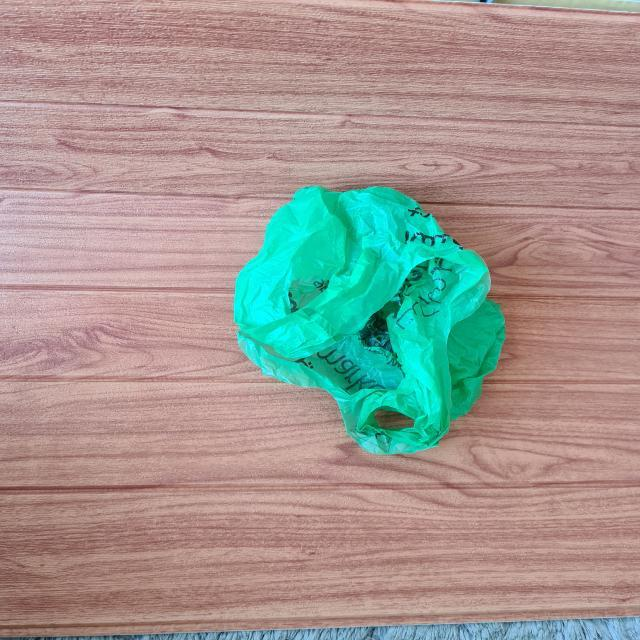plastic: (232, 185, 505, 451)
